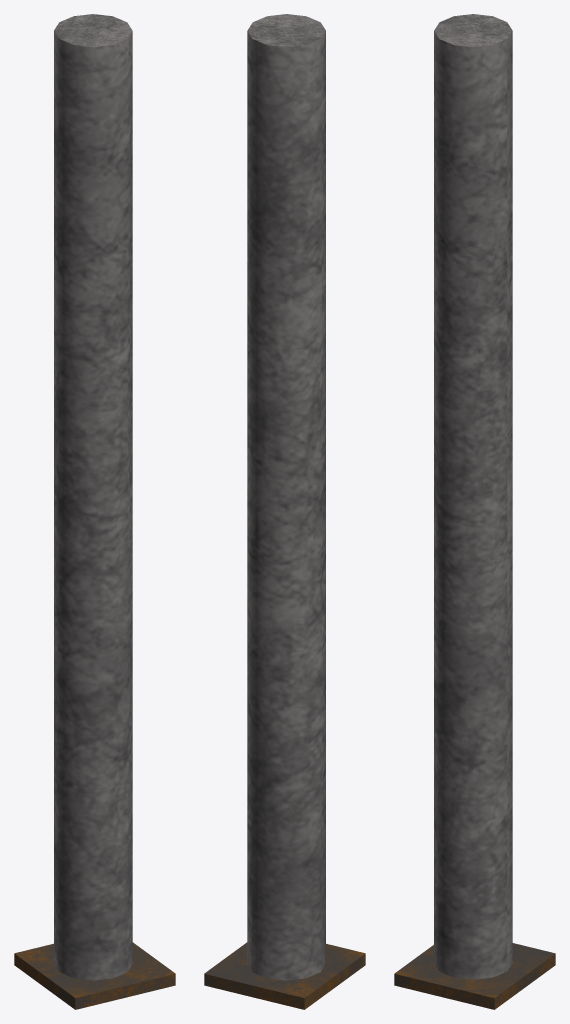
Rendered from Balcony_Pillar_02.fbx.
3 renders of one model, left to right at view 1: azimuth 30°, elevation 25°; view 2: azimuth 150°, elevation 25°; view 3: azimuth 330°, elevation 25°, orthographic.
Visible parts, largest first — view 1: Box001; view 2: Box001; view 3: Box001.
Part boxes in pixels (box(x1,y1,x2,y2)): Box001: box(14, 14, 175, 1009); Box001: box(204, 14, 365, 1009); Box001: box(394, 14, 555, 1009).
Bounding box in the file's own units: 19.69 × 177 × 20.81.
